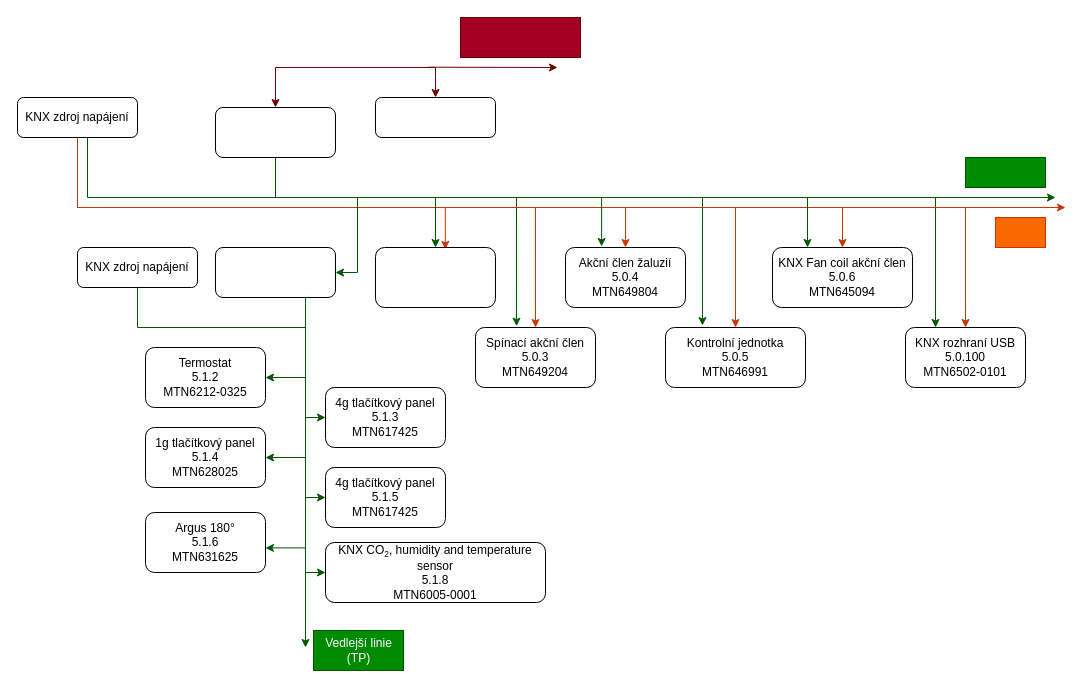
Some shapes in this 1091 by 688 pixel diagram are drawn without their labels. Here are the shapes that lost their labels. From the top down, the centre of each, then its label:
(x=520, y=37): Páteřní linie Ethernet (KNX IP)
(x=275, y=132): Space LYnk 192.168.0.100
(x=435, y=117): Vizualizace 5.0.65
(x=1005, y=172): Hlavní linie (TP)
(x=1020, y=232): 230 V
(x=275, y=272): Liniová spojka 5.1.0
(x=435, y=277): DALI brána 5.0.2 MTN6725-0003
